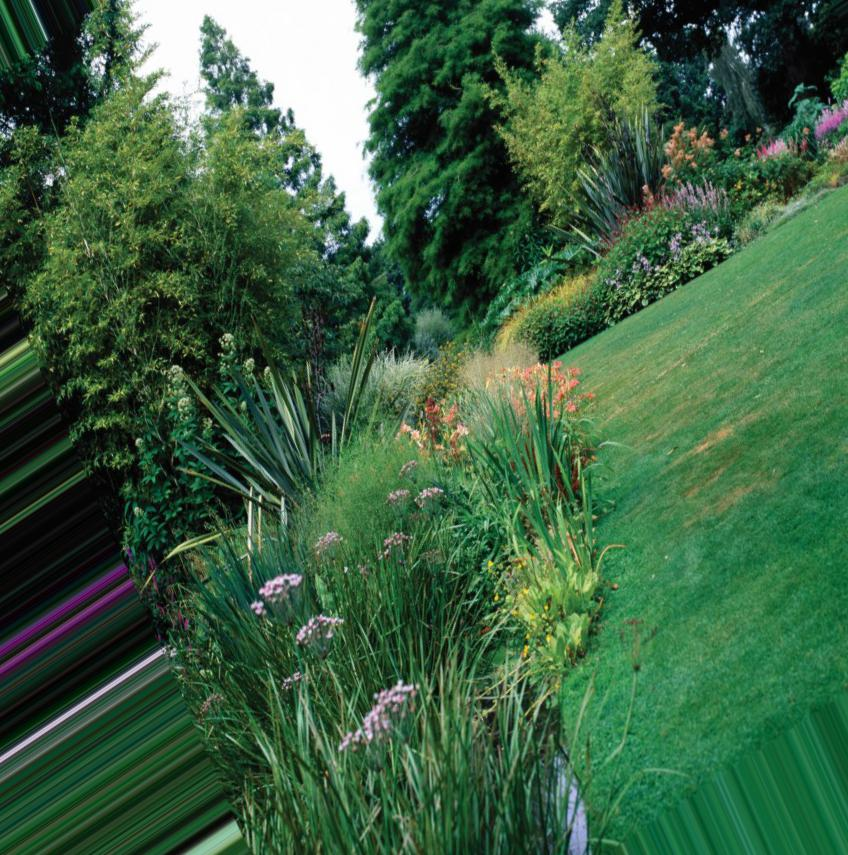patch: (478, 354, 525, 393)
